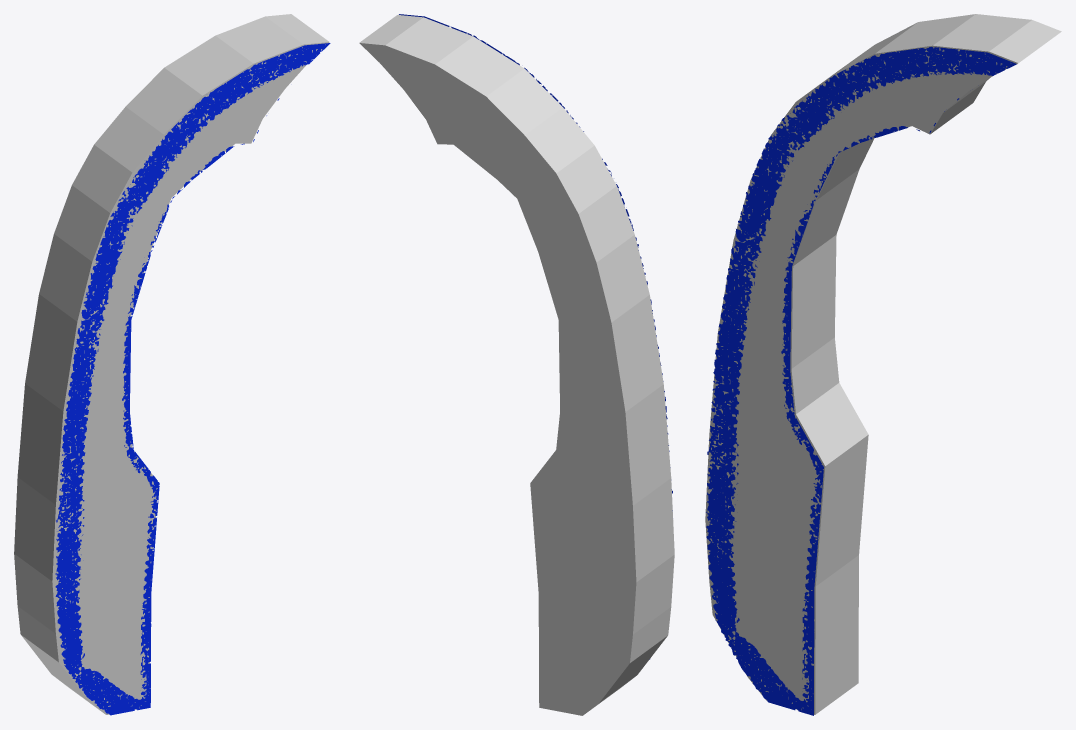
3 renders of one model, left to right at view 1: azimuth 30°, elevation 25°; view 2: azimuth 150°, elevation 25°; view 3: azimuth 330°, elevation 25°, orthographic. The views are drawn at different scales.
Parts seen in each view (by area): view 1: In1_0, In1_1; view 2: In1_0, In1_1; view 3: In1_0, In1_1.
Part boxes in pixels (bbox=[...]): In1_0: bbox=[14, 14, 329, 714]; In1_1: bbox=[55, 43, 330, 715]; In1_0: bbox=[359, 15, 674, 715]; In1_1: bbox=[399, 14, 672, 659]; In1_0: bbox=[705, 14, 1061, 714]; In1_1: bbox=[705, 47, 1016, 715].
Bounding box in the file's own units: 2.09 × 4.49 × 0.515.
Materials: 2 (1 with a texture image).
